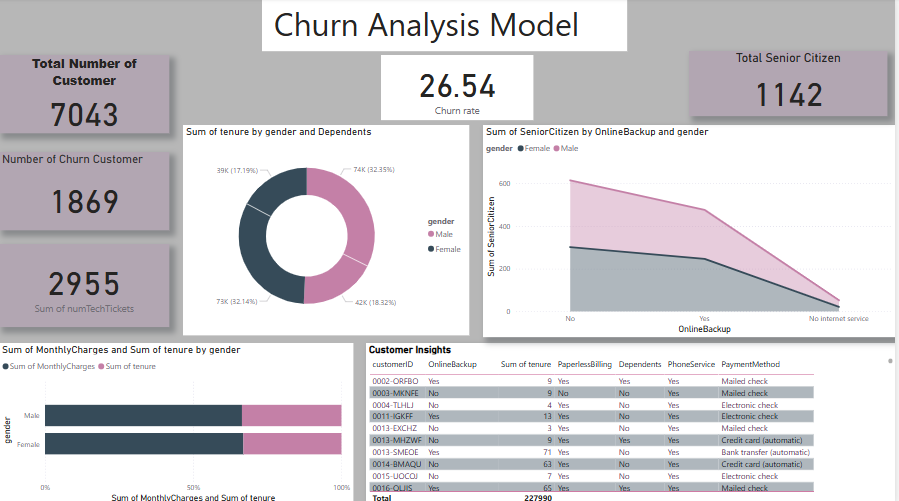

What the dashboard file says about the page in this screenshot:
{"tool":"powerbi","page":{"name":"Page 1","canvas":[1500,850],"ordinal":0},"visuals":[{"type":"textbox","box":[440.1,0,610.7,88.7],"z":0},{"type":"card","title":"Total Number of Customer","fields":{"Values":["Count(01 Churn-Dataset.customerID)"]},"box":[0,95.5,284.9,130.7],"z":1000},{"type":"card","title":"Number of Churn Customer","fields":{"Values":["Sum(Churn-Data.Churned count)"]},"box":[0,258.1,284.9,130.7],"z":2000},{"type":"hundredPercentStackedBarChart","fields":{"Category":["Churn-Data.gender"],"Y":["Sum(Churn-Data.MonthlyCharges)","Sum(Churn-Data.tenure)"]},"box":[0,576.5,593.3,273.2],"z":3000},{"type":"tableEx","title":"Customer Insights","fields":{"Values":["Churn-Data.customerID","Churn-Data.OnlineBackup","Sum(Churn-Data.tenure)","Churn-Data.PaperlessBilling","Churn-Data.Dependents","Churn-Data.PhoneService","Churn-Data.PaymentMethod"]},"box":[613.4,576.5,886.6,273.2],"z":4000},{"type":"stackedAreaChart","fields":{"Category":["Churn-Data.OnlineBackup"],"Series":["Churn-Data.gender"],"Y":["Sum(Churn-Data.SeniorCitizen)"]},"box":[809.5,212.8,690.5,355.3],"z":5000},{"type":"donutChart","fields":{"Category":["Churn-Data.gender"],"Series":["Churn-Data.Dependents"],"Y":["Sum(Churn-Data.tenure)"]},"box":[308.4,212.8,479.3,352],"z":6000},{"type":"card","title":"Total Senior Citizen","fields":{"Values":["Sum(Churn-Data.SeniorCitizen)"]},"box":[1154.7,88.8,331.8,108.9],"z":7000},{"type":"card","fields":{"Values":["Sum(Churn-Data.numTechTickets)"]},"box":[0,412.3,284.9,139.1],"z":8000},{"type":"card","fields":{"Values":["Churn-Data.Churn rate"]},"box":[638.5,95.5,254.7,108.9],"z":9000}]}

Visuals, with their boxes in screenshot pixels (x1, y1, x2, y2), scaled from the page's 1500x850 canvas onto the 899x501 screenshot:
textbox: x1=264 y1=0 x2=630 y2=52
"Total Number of Customer" card: x1=0 y1=56 x2=171 y2=133
"Number of Churn Customer" card: x1=0 y1=152 x2=171 y2=229
hundredPercentStackedBarChart - Churn-Data.gender x Sum(Churn-Data.MonthlyCharges): x1=0 y1=340 x2=356 y2=500
"Customer Insights" tableEx: x1=368 y1=340 x2=898 y2=500
stackedAreaChart - Churn-Data.OnlineBackup x Churn-Data.gender: x1=485 y1=125 x2=898 y2=335
donutChart - Churn-Data.gender x Churn-Data.Dependents: x1=185 y1=125 x2=472 y2=333
"Total Senior Citizen" card: x1=692 y1=52 x2=891 y2=117
card - Sum(Churn-Data.numTechTickets): x1=0 y1=243 x2=171 y2=325
card - Churn-Data.Churn rate: x1=383 y1=56 x2=535 y2=120
